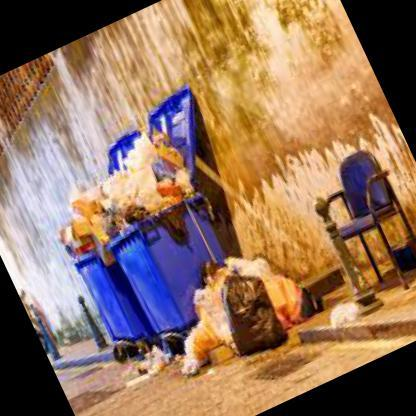Garbage: (178, 236, 333, 372), (84, 138, 202, 236), (230, 257, 317, 348), (172, 304, 264, 376), (45, 187, 126, 258)
